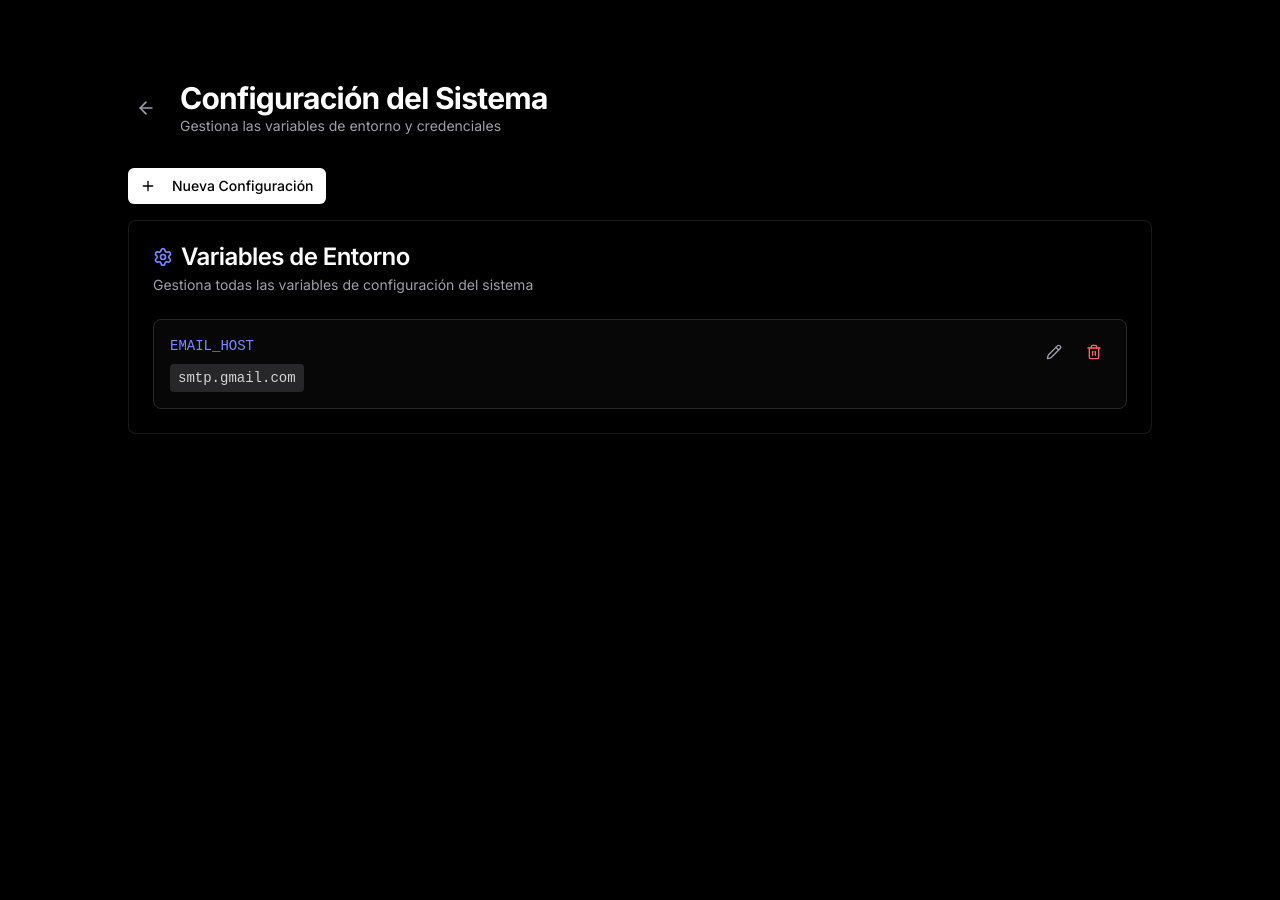
Scenario: ConfigSistemaPage › opens edit dialog for configurations without a description
Click the 2nd button at (1054, 352), box [1038, 336, 1070, 368]
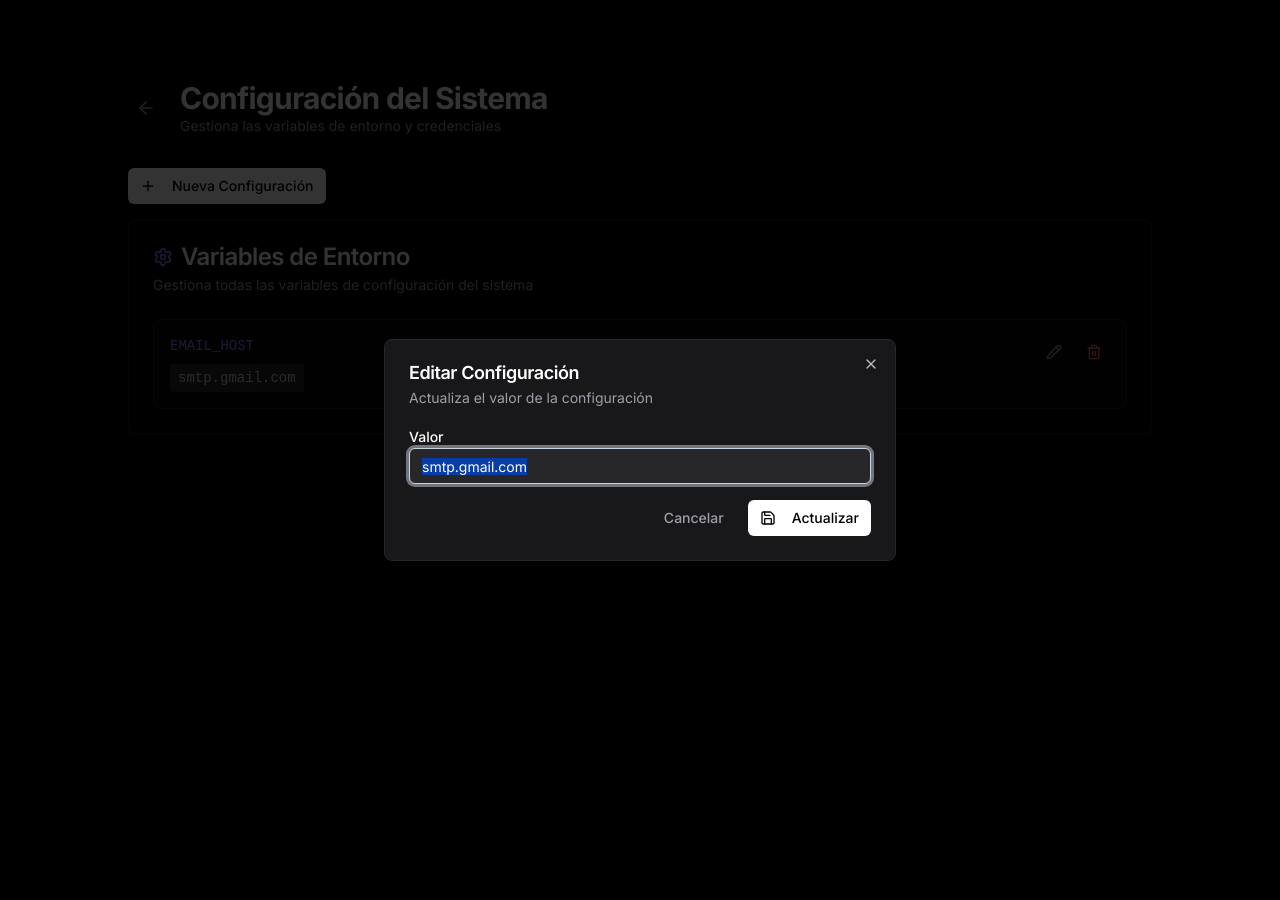
Now the heading "Editar Configuración" is shown, box [409, 362, 579, 383]
